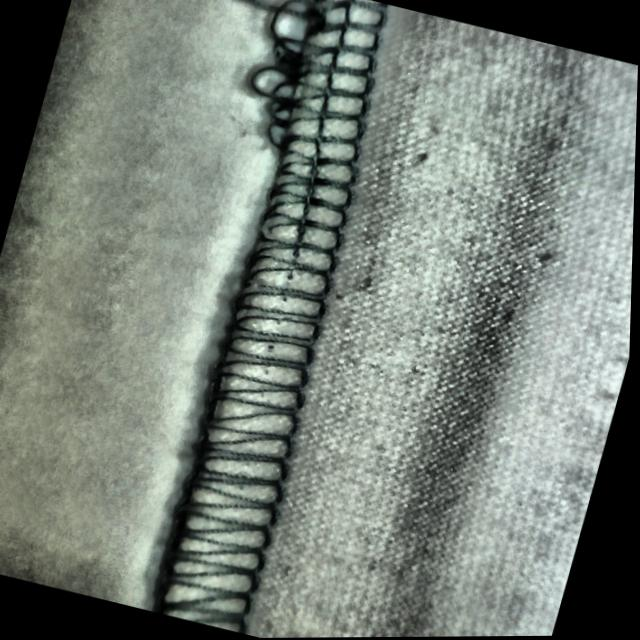Stitch: (183, 0, 398, 169)
